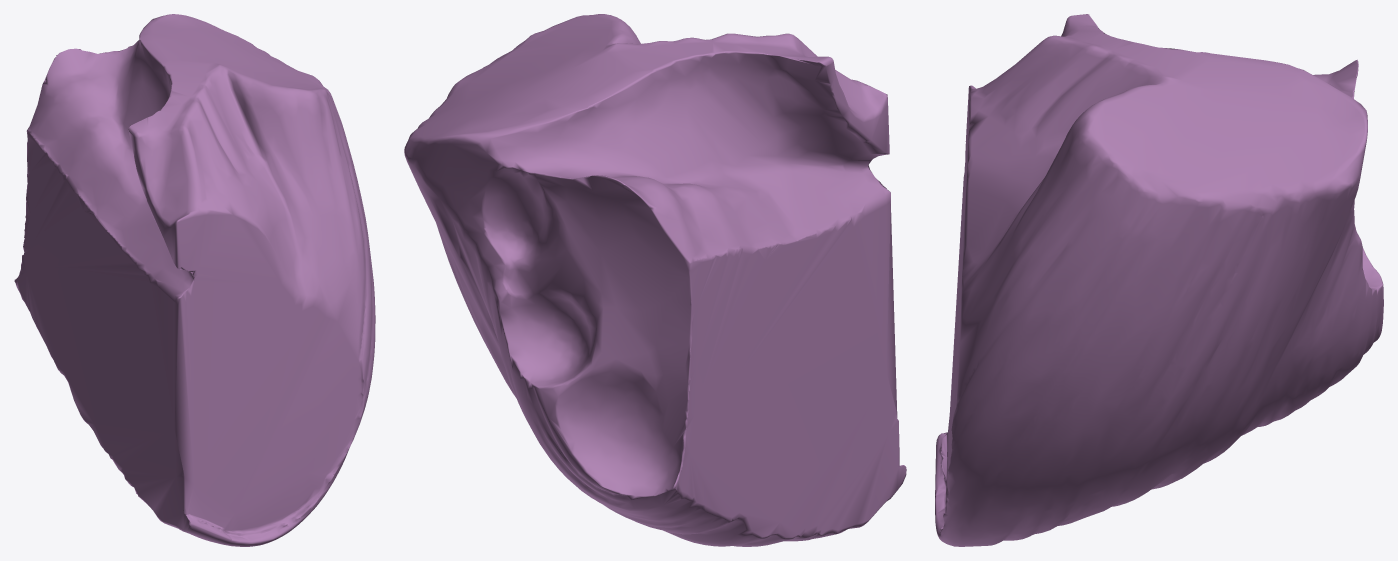
3 views of the same model, side by side, from view 1: azimuth 30°, elevation 25°; view 2: azimuth 150°, elevation 25°; view 3: azimuth 270°, elevation 25° (orthographic). The views are drawn at different scales.
Parts seen in each view (by area): view 1: 左侧脑桥; view 2: 左侧脑桥; view 3: 左侧脑桥.
Boxes of the visible parts, x1,y1,x2,y2 form: 左侧脑桥: (14, 14, 375, 546); 左侧脑桥: (404, 14, 906, 546); 左侧脑桥: (935, 14, 1383, 546).
Size of the model in its own units: 0.0303 by 0.0492 by 0.0409.
